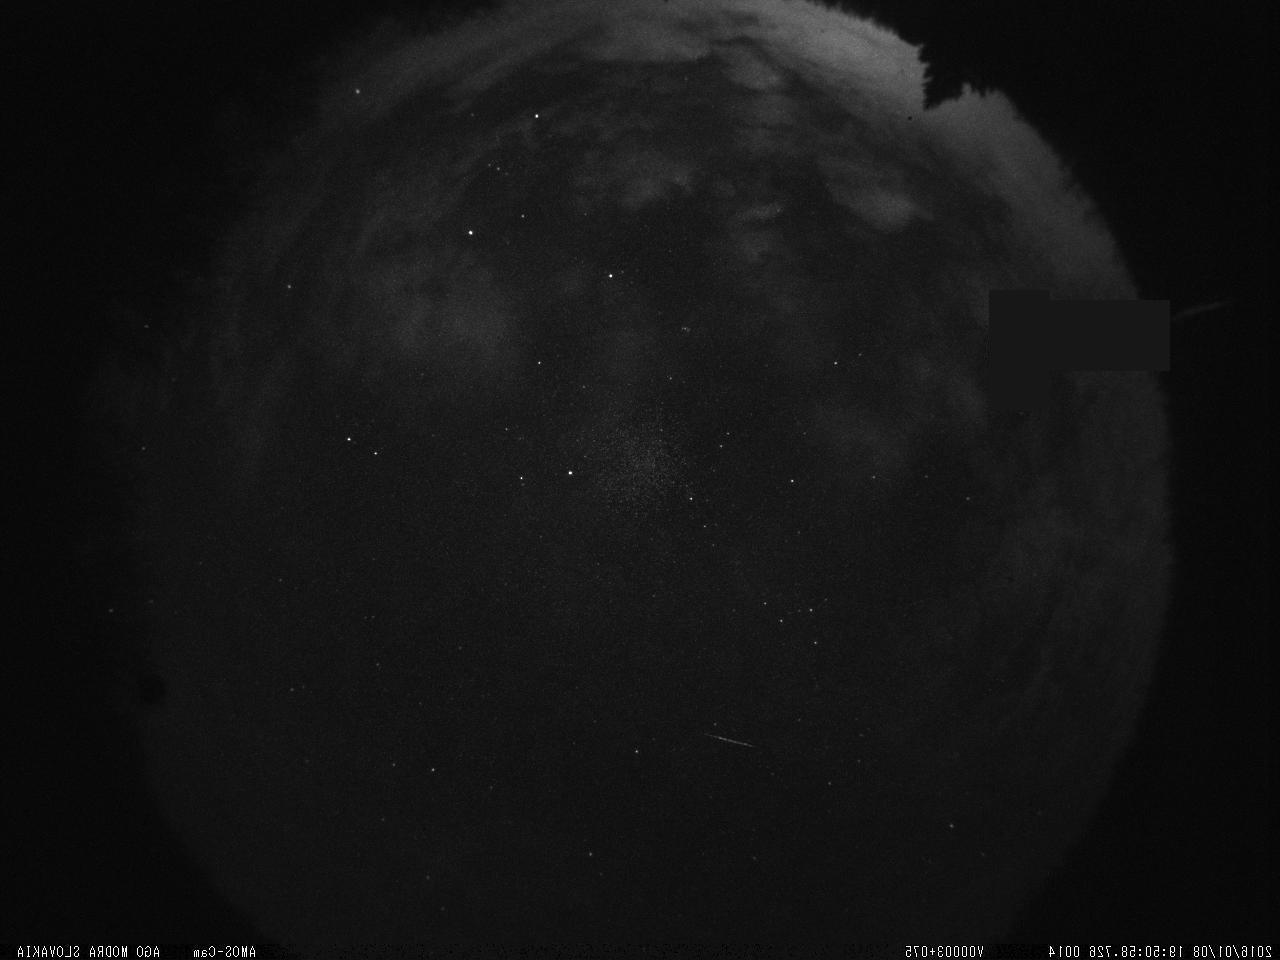meteor: (692, 726, 767, 755)
